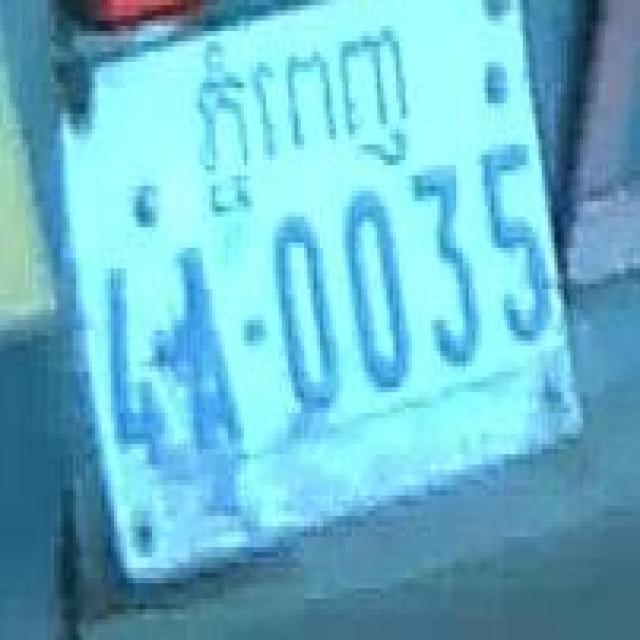Phnom_Penh: (194, 31, 404, 211)
